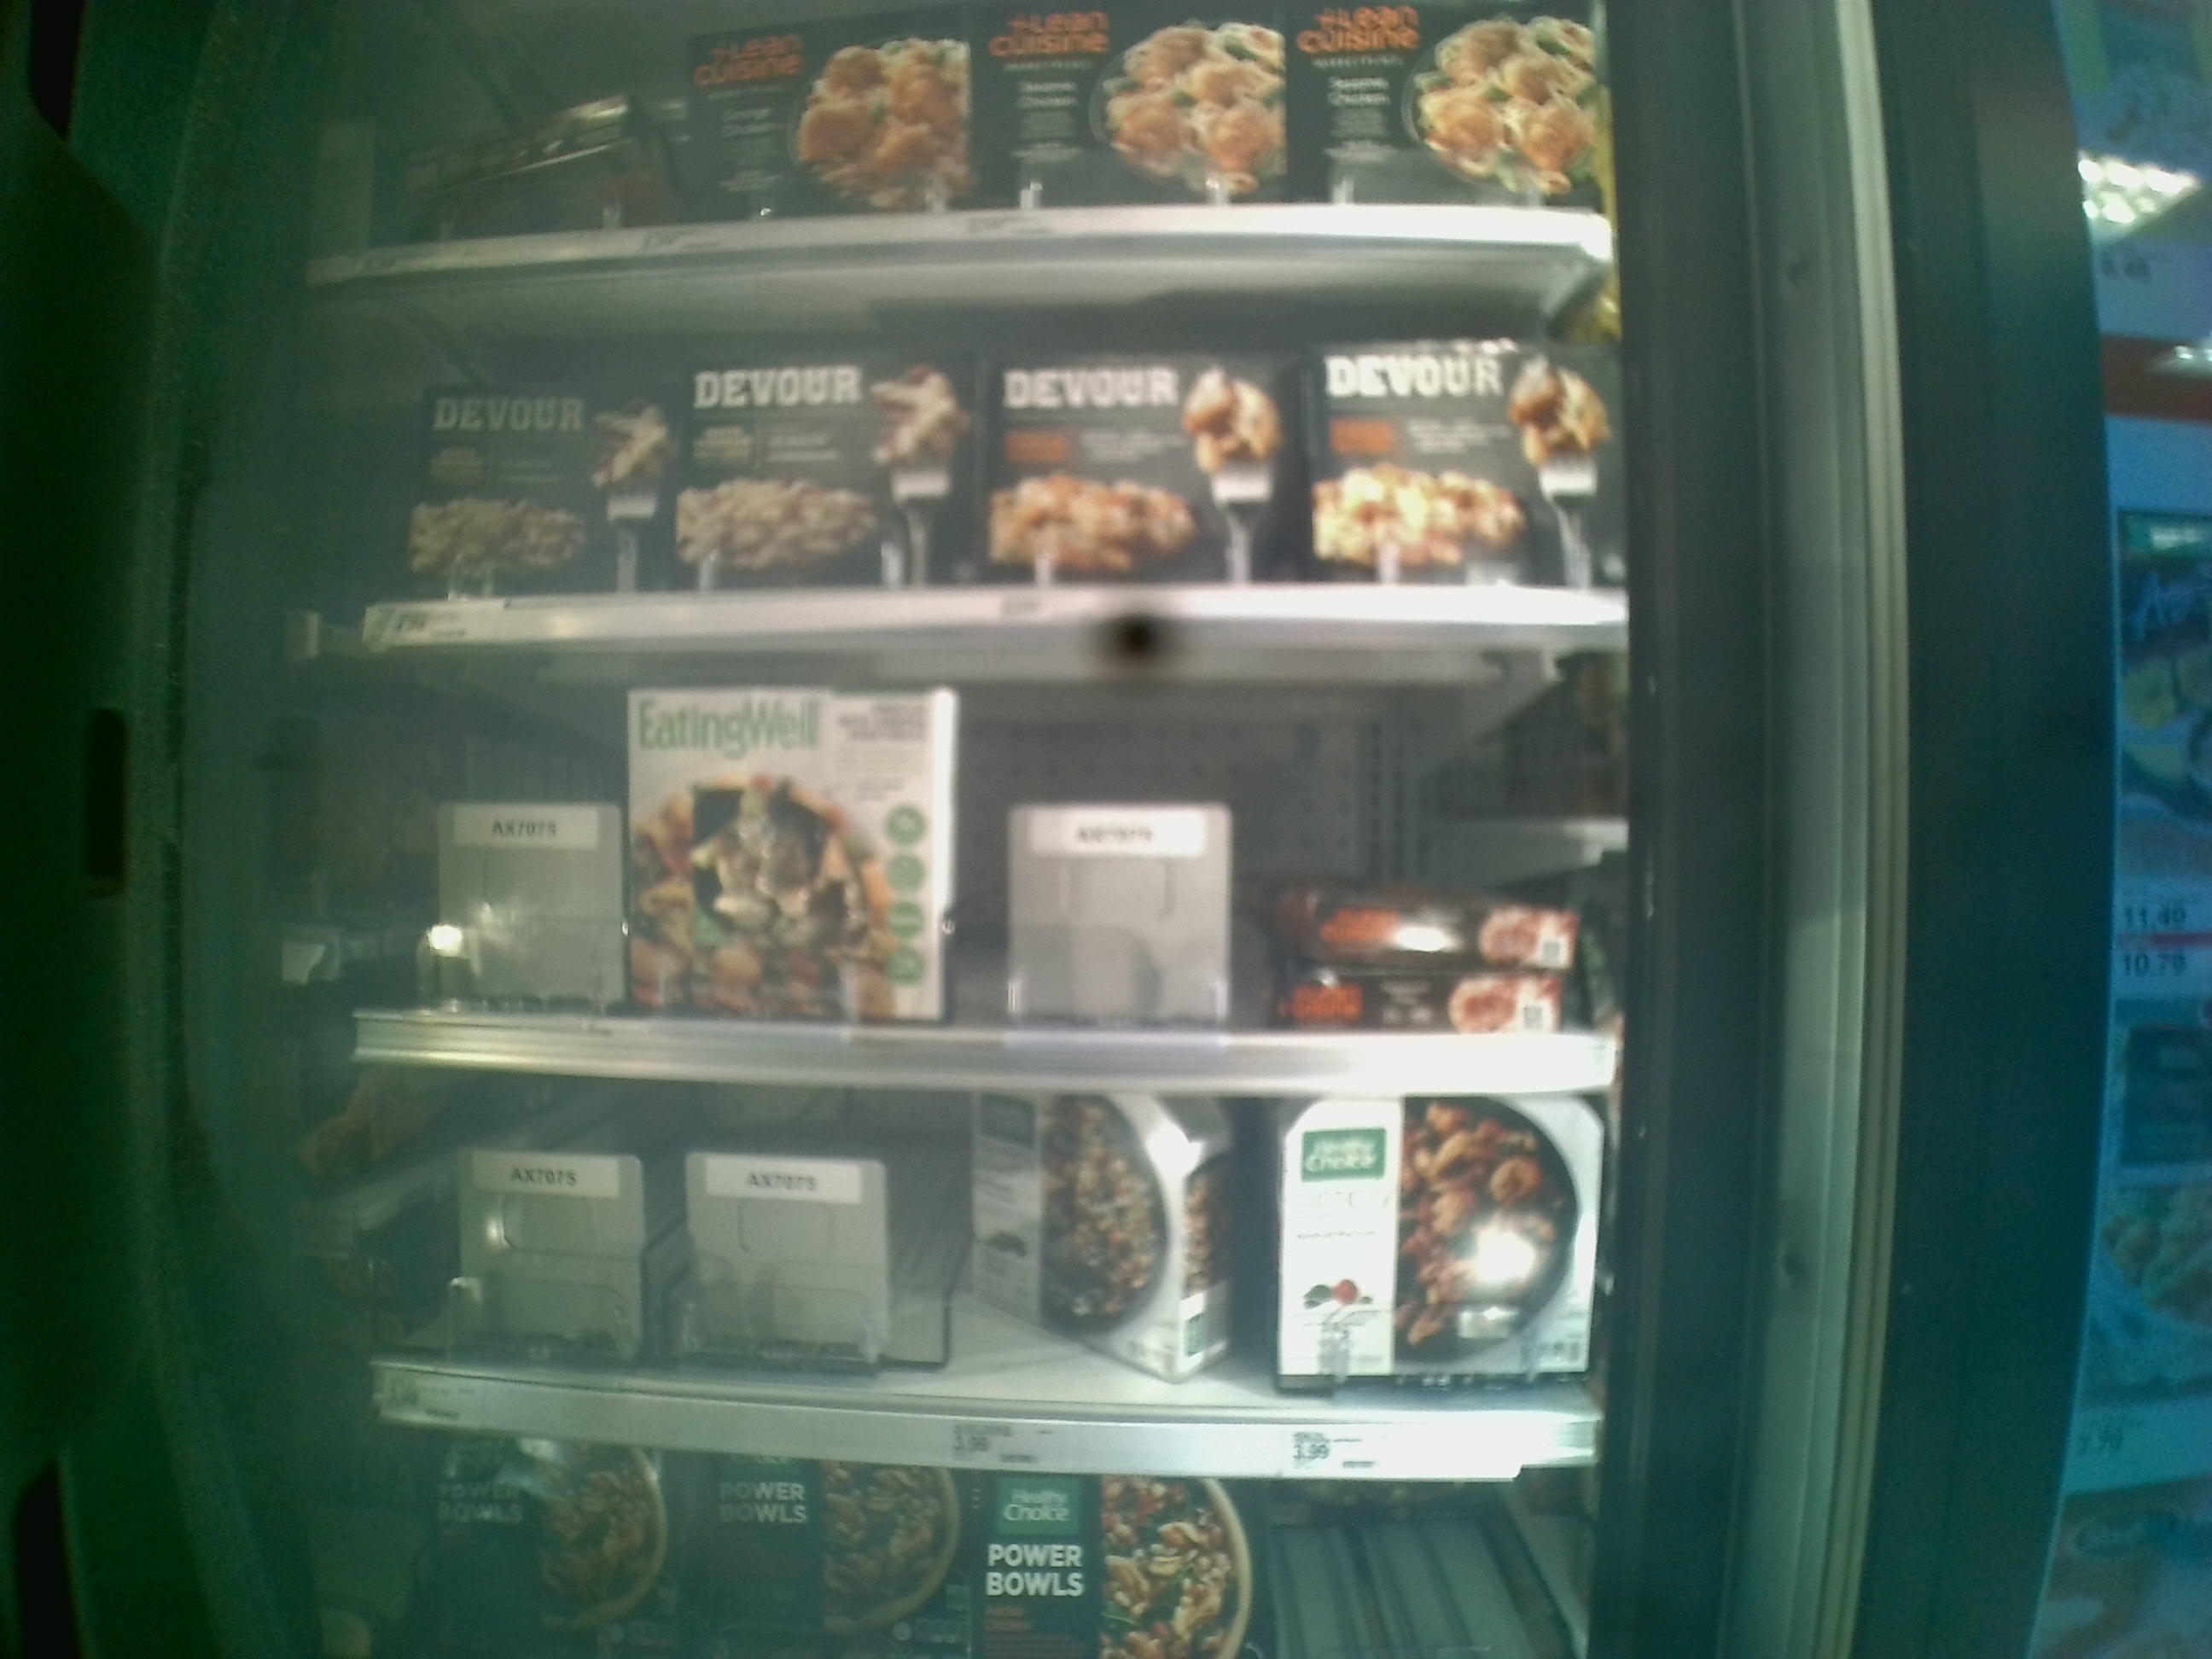shelf: (340, 622, 1630, 1093), (361, 1063, 1606, 1486), (336, 232, 1616, 627)
